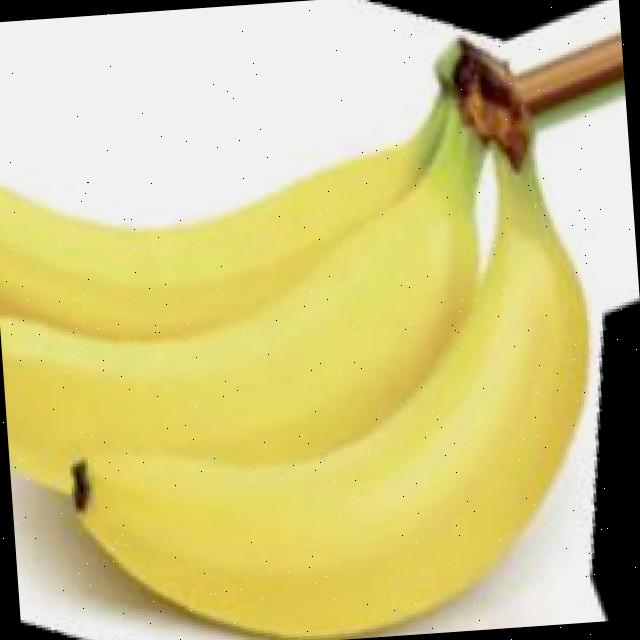banana: (0, 26, 619, 640)
